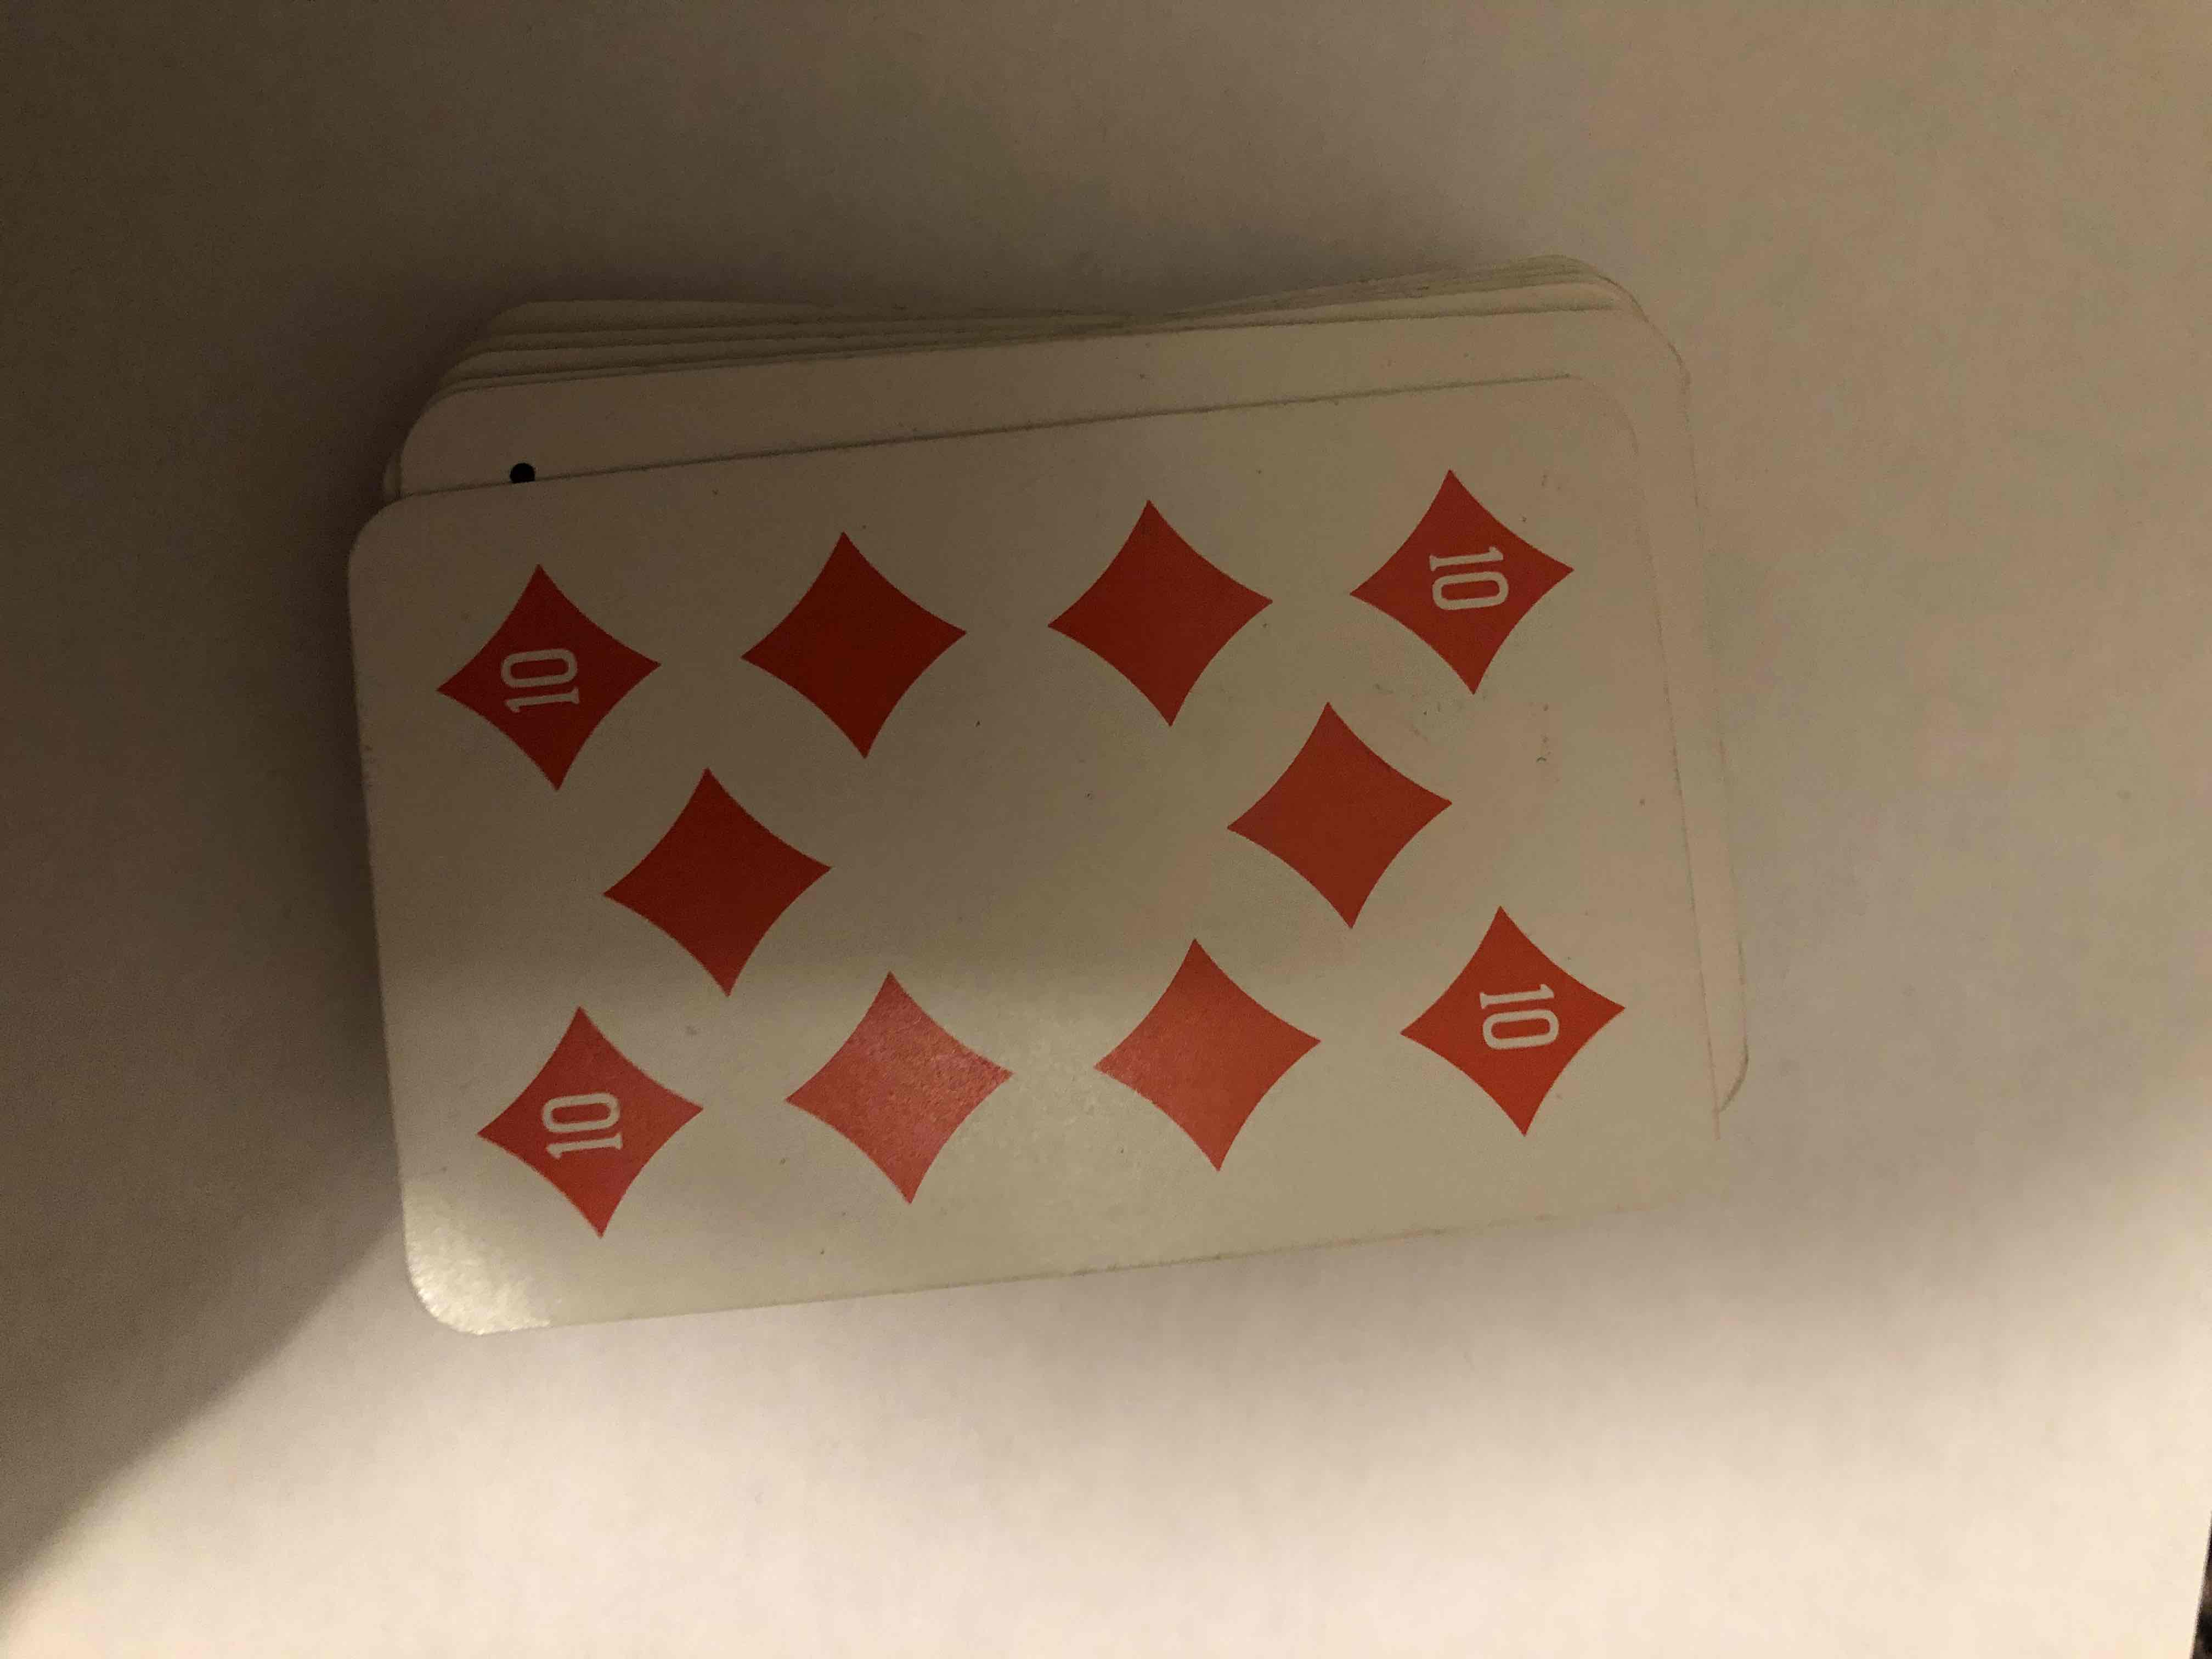diamond10: (376, 406, 1726, 1255)
